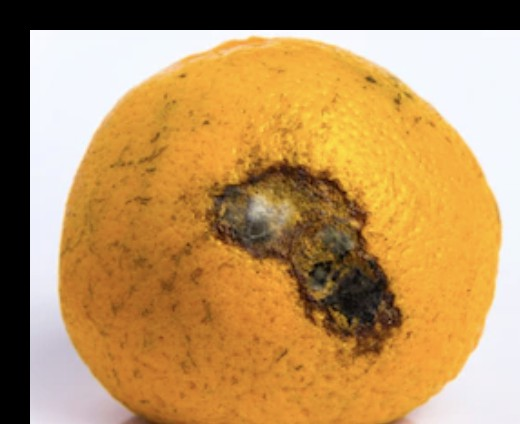rotten_orange: (59, 38, 503, 424)
